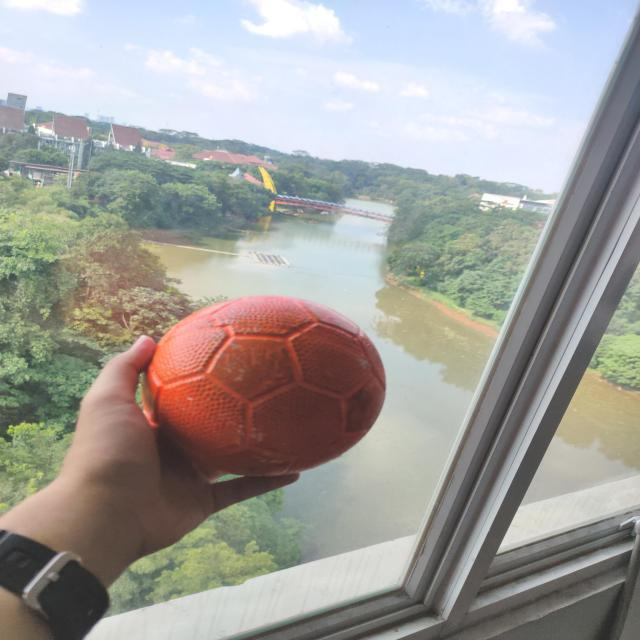bola: (116, 272, 399, 483)
